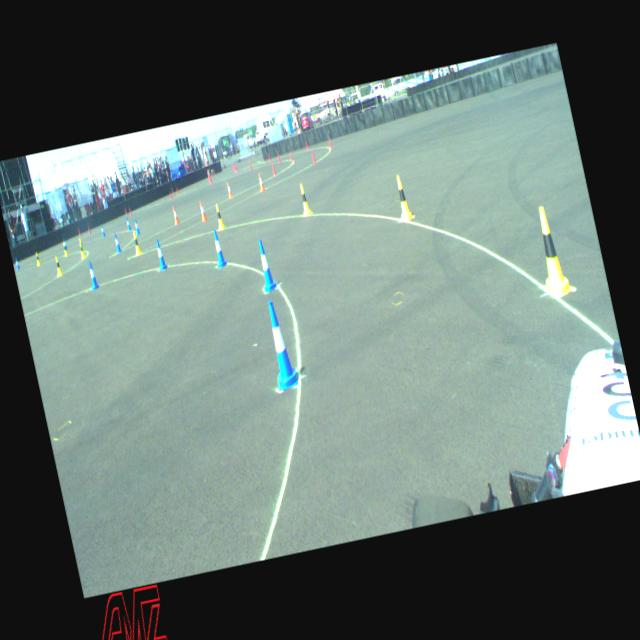blue_cone: (260, 298, 300, 390), (254, 238, 278, 292), (210, 228, 228, 268), (154, 238, 168, 271), (86, 259, 100, 290), (112, 232, 120, 252), (134, 216, 140, 234), (13, 256, 20, 270), (125, 216, 130, 230), (62, 237, 67, 250), (100, 223, 104, 237)
orange_cone: (197, 199, 207, 221), (171, 205, 180, 225), (256, 172, 264, 192), (225, 180, 233, 198)
unknown_cone: (310, 150, 316, 164), (270, 162, 276, 175), (288, 150, 294, 162), (327, 136, 332, 148), (276, 152, 280, 162), (248, 160, 252, 170), (305, 140, 309, 150), (87, 224, 91, 234), (168, 190, 172, 200), (266, 152, 270, 162), (128, 207, 132, 216), (77, 227, 81, 236), (175, 186, 179, 195), (208, 174, 212, 183), (170, 186, 174, 194), (207, 174, 211, 182), (235, 163, 238, 172), (233, 163, 236, 171), (124, 206, 126, 214)
yellow_cone: (529, 204, 570, 296), (392, 174, 413, 221), (297, 182, 311, 215), (213, 203, 224, 230), (130, 230, 140, 253), (53, 254, 63, 276), (76, 237, 85, 258), (61, 241, 68, 257), (34, 250, 40, 266)
